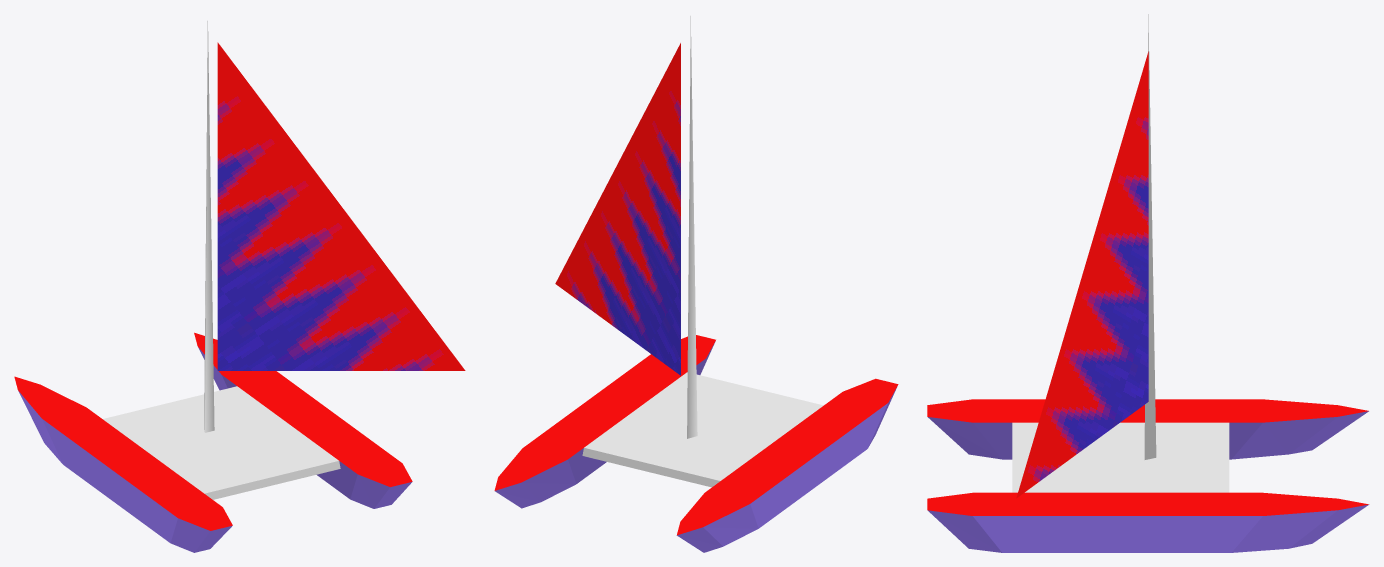
File: uvmd-0033.glb
The picture shows the model from 3 angles, left to right: view 1: azimuth 30°, elevation 25°; view 2: azimuth 150°, elevation 25°; view 3: azimuth 270°, elevation 25°; orthographic projection. The views are drawn at different scales.
Parts seen in each view (by area): view 1: uvmd-0033; view 2: uvmd-0033; view 3: uvmd-0033.
Part boxes in pixels (x1,y1,x2,y2): uvmd-0033: [14, 21, 465, 552]; uvmd-0033: [494, 16, 898, 552]; uvmd-0033: [927, 14, 1369, 552].
Size of the model in its own units: 192 by 270 by 224.
Materials: 2 (2 with a texture image).
